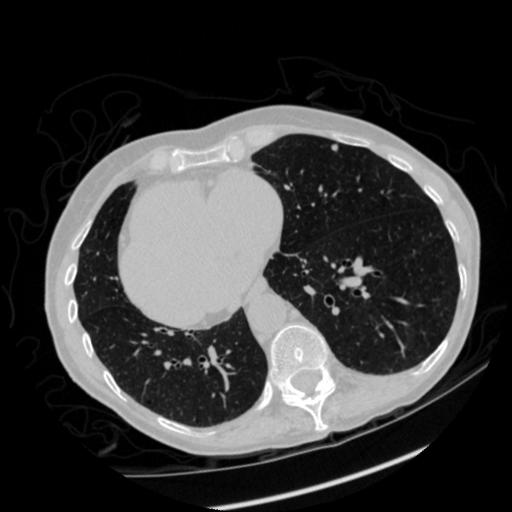nodule: (330, 141, 344, 155)
